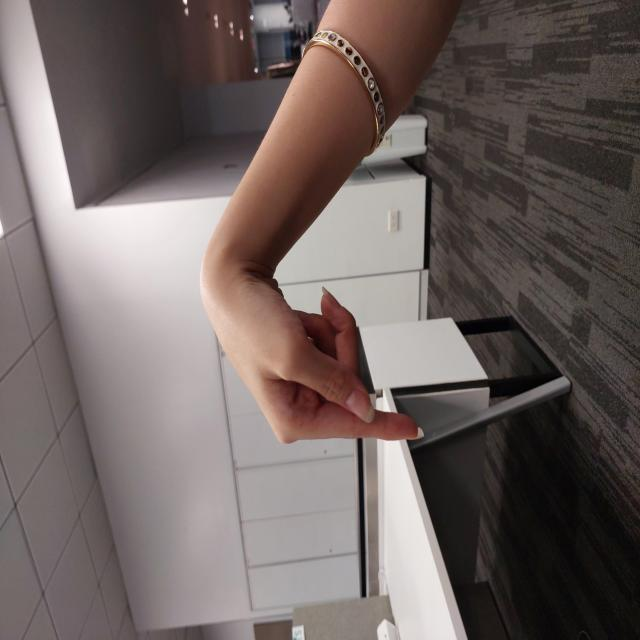P: (196, 197, 399, 429)
